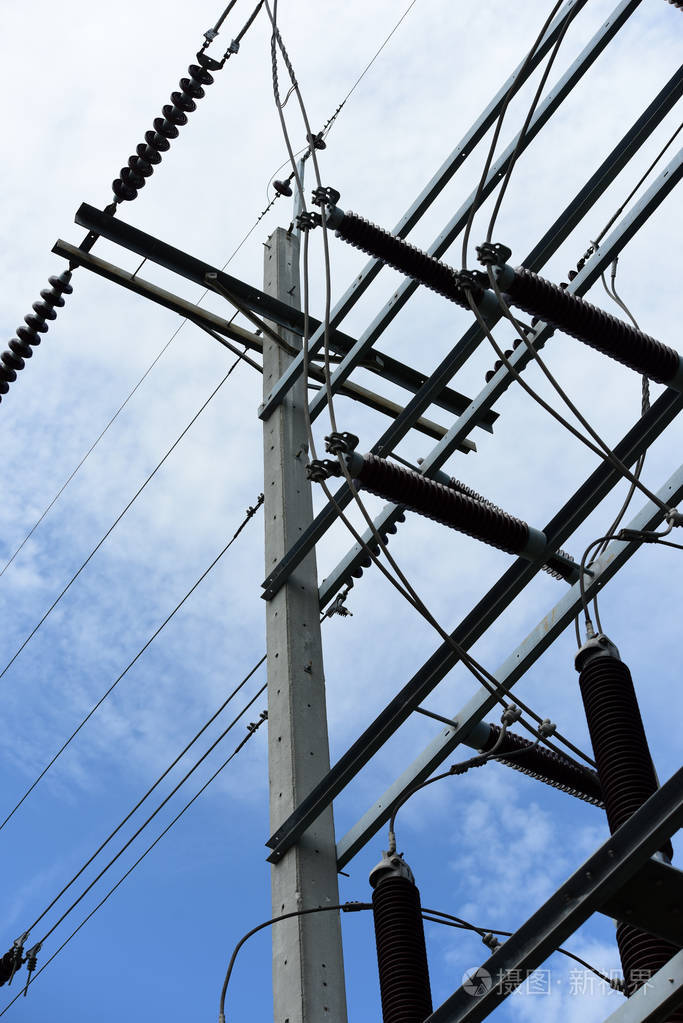insulator: (112, 56, 212, 198), (2, 274, 74, 388)
